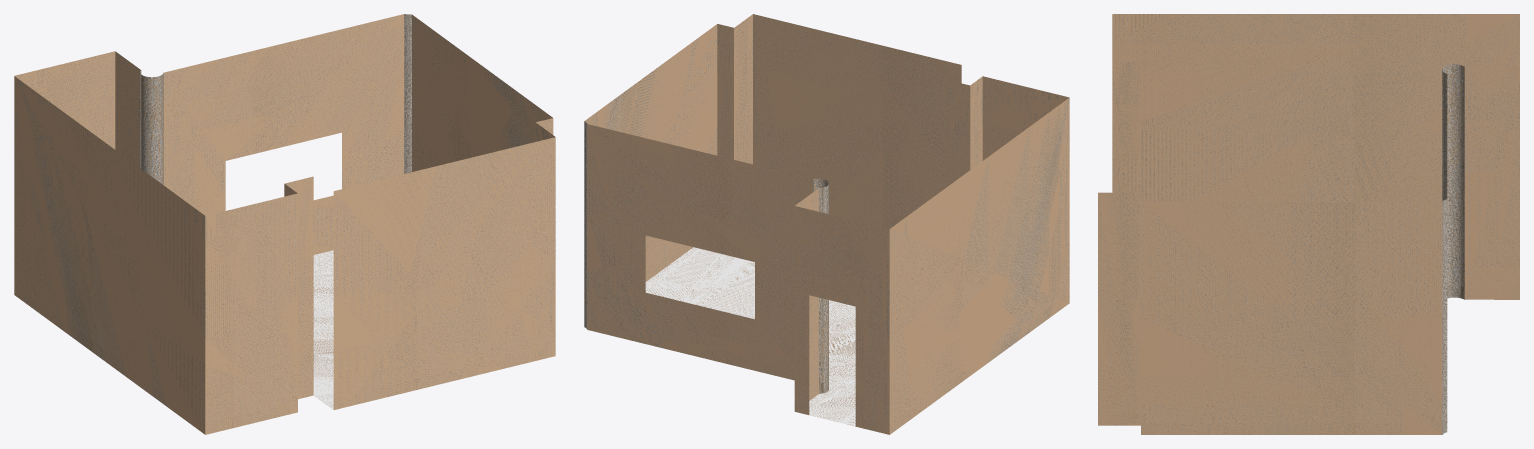
Rendered from DES038.obj.
The picture shows the model from 3 angles, left to right: view 1: azimuth 30°, elevation 25°; view 2: azimuth 150°, elevation 25°; view 3: azimuth 270°, elevation 25°; orthographic projection. The views are drawn at different scales.
Parts seen in each view (by area): view 1: Mesh1 DES038 Model; view 2: Mesh1 DES038 Model; view 3: Mesh1 DES038 Model.
Part boxes in pixels (x1,y1,x2,y2): Mesh1 DES038 Model: [14, 14, 555, 434]; Mesh1 DES038 Model: [584, 14, 1069, 434]; Mesh1 DES038 Model: [1098, 14, 1519, 434].
Bounding box in the file's own units: 6.22 × 3.6 × 5.9.
6 materials, 2 textured.
